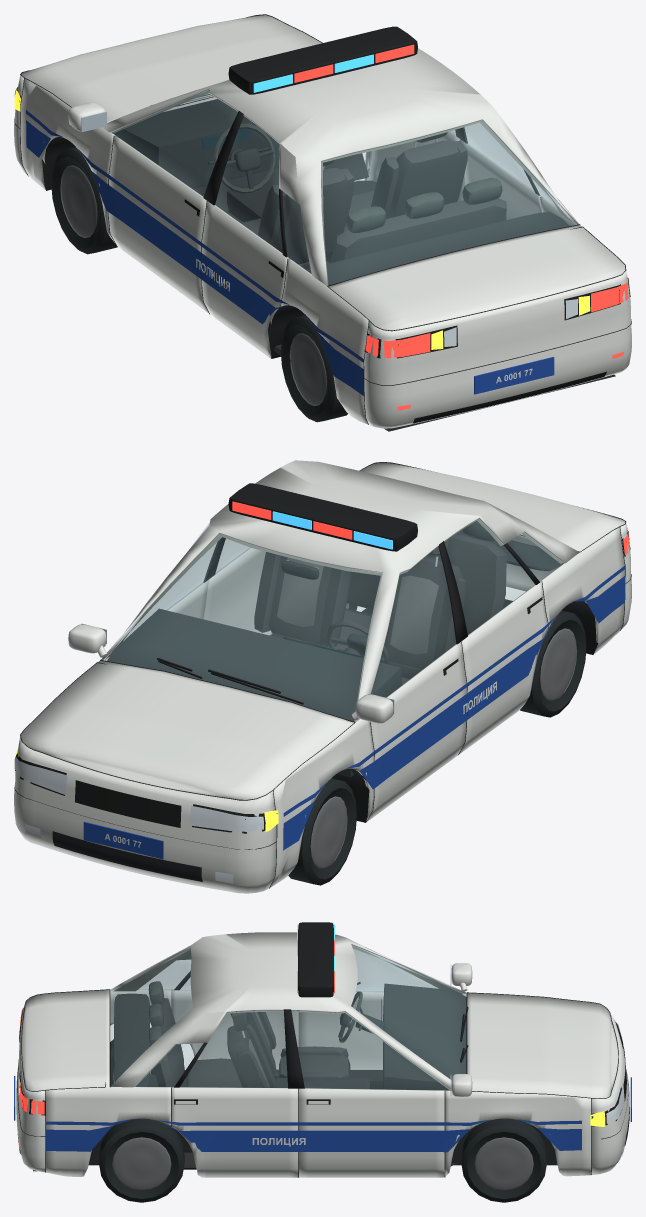
Rendered from DS_Police_A_Traffic.fbx.
3 renders of one model, top to bottom at view 1: azimuth 30°, elevation 25°; view 2: azimuth 150°, elevation 25°; view 3: azimuth 270°, elevation 25°, orthographic. The views are drawn at different scales.
Parts seen in each view (by area): view 1: Glass_Rear, Roof, Bumper_Rear, Trunk, Hood, Door_Front_L, Dashboard, Glass_Front_L, Door_Rear_L, Stripe_Blue_L, Glass_Rear_L, LightBar (+29 smaller); view 2: Glass_Windshield, Hood, Roof, Bumper_Front, Dashboard, Door_Front_L, Glass_Front_L, Door_Rear_L, Stripe_Blue_L, Trunk, Glass_Rear_L, Fender_Front_L (+31 smaller); view 3: Roof, Hood, Door_Front_R, Glass_Windshield, Trunk, Door_Rear_R, Stripe_Blue_R, Glass_Front_R, Dashboard, Glass_Rear, Glass_Rear_R, Fender_Front_R (+31 smaller).
Part boxes in pixels (x1,y1,x2,y2): Glass_Rear: (321,120,576,284); Roof: (102,48,579,285); Bumper_Rear: (364,271,631,428); Trunk: (328,225,625,330); Hood: (21,15,321,122); Door_Front_L: (109,135,208,312); Dashboard: (112,99,279,188); Glass_Front_L: (111,90,237,196); Door_Rear_L: (201,201,288,358); Stripe_Blue_L: (26,120,363,395); Glass_Rear_L: (215,116,282,252); LightBar: (228,26,417,94); Glass_Windshield: (103,533,381,721); Hood: (21,660,353,799); Roof: (101,460,579,722); Bumper_Front: (14,737,276,893); Dashboard: (107,608,402,777); Door_Front_L: (367,642,466,821); Glass_Front_L: (371,547,455,697); Door_Rear_L: (459,581,548,754); Stripe_Blue_L: (283,576,625,850); Trunk: (360,462,625,551); Glass_Rear_L: (444,519,534,634); Fender_Front_L: (270,719,374,887); Roof: (110,932,466,1089); Hood: (467,993,618,1098); Door_Front_R: (299,1088,444,1177); Glass_Windshield: (351,945,465,1078); Trunk: (22,990,109,1090); Door_Rear_R: (171,1087,298,1177); Stripe_Blue_R: (45,1122,581,1152); Glass_Front_R: (292,1011,449,1090); Dashboard: (383,983,467,1133); Glass_Rear: (111,947,192,1085); Glass_Rear_R: (180,1011,287,1087); Fender_Front_R: (445,1090,591,1176).
Bounding box in the file's own units: 208 × 443 × 159.
